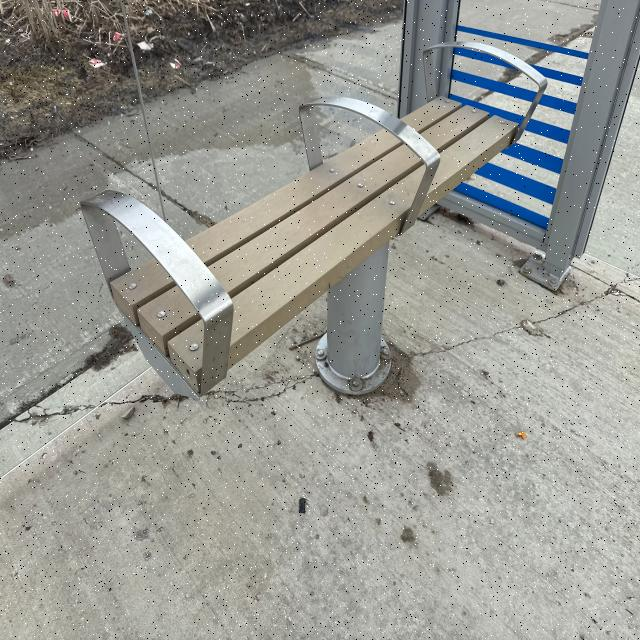Bench: (84, 46, 564, 405)
